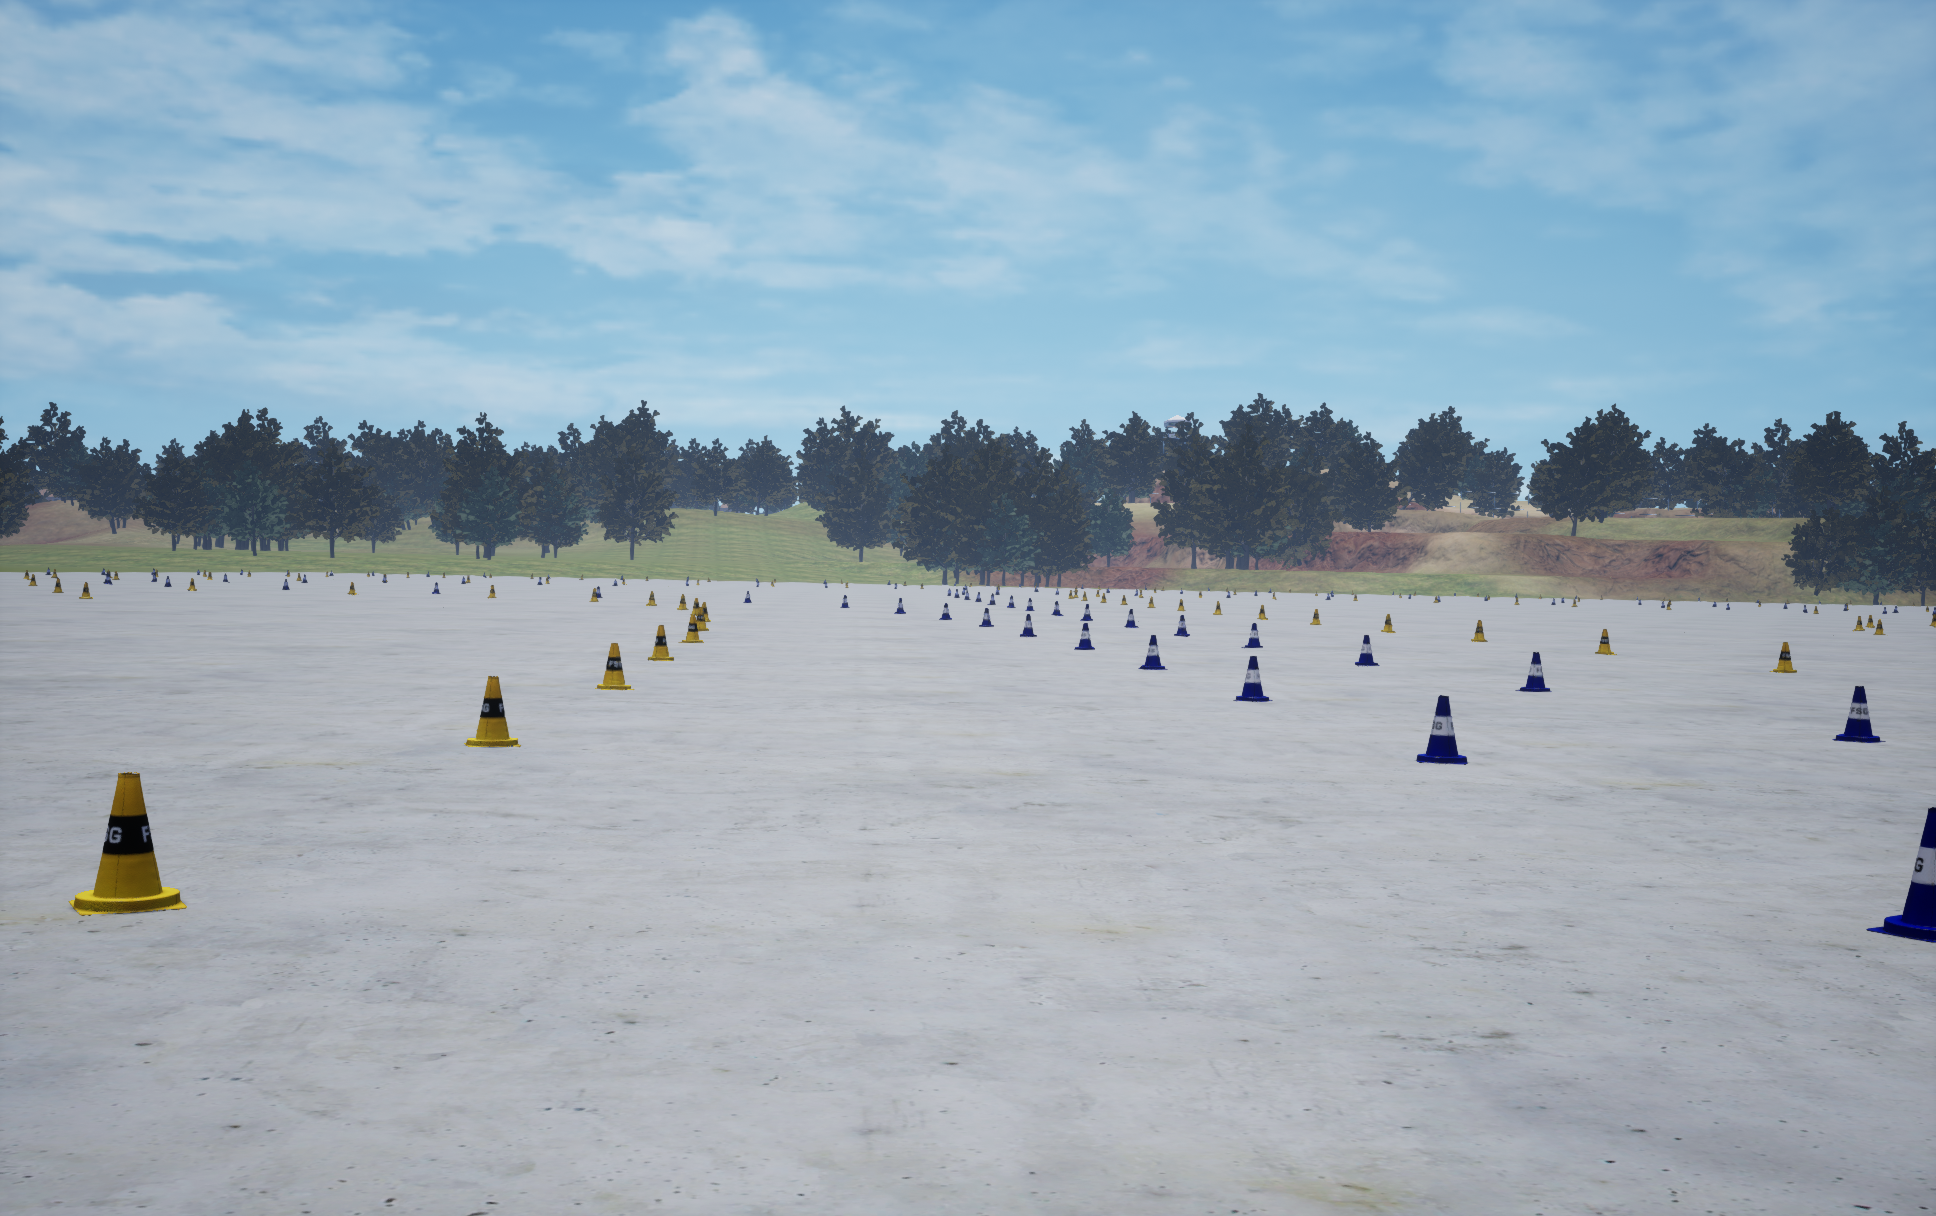blue: (69, 772, 186, 915), (464, 677, 520, 747), (595, 643, 635, 689), (649, 625, 672, 660), (1769, 642, 1796, 672), (678, 614, 703, 642), (1596, 629, 1617, 654), (1471, 621, 1486, 642), (696, 607, 707, 630), (1381, 614, 1395, 632), (696, 602, 710, 621)
yellow: (1866, 807, 1935, 941), (1416, 695, 1467, 764), (1832, 686, 1886, 742), (1233, 656, 1272, 700), (1514, 651, 1551, 691), (1138, 635, 1167, 670), (1355, 635, 1378, 665), (1241, 623, 1262, 647), (1074, 623, 1094, 649), (1020, 614, 1037, 636), (1174, 615, 1189, 636), (979, 608, 993, 626), (1123, 609, 1138, 628)
